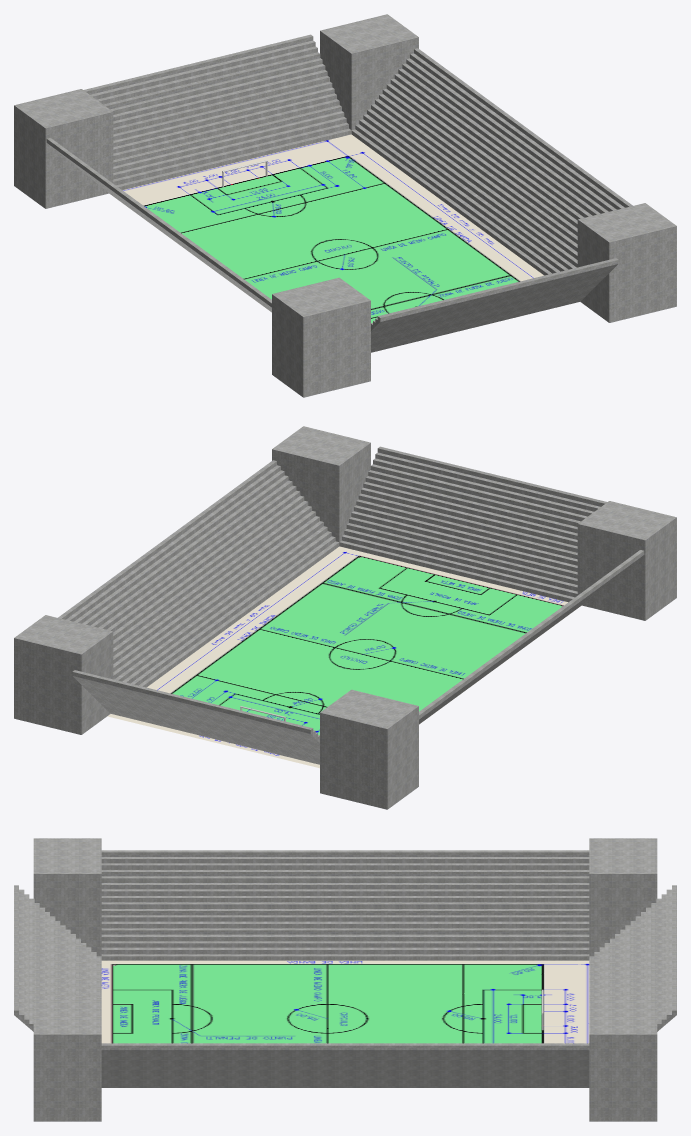
The picture shows the model from 3 angles, top to bottom: view 1: azimuth 30°, elevation 25°; view 2: azimuth 150°, elevation 25°; view 3: azimuth 270°, elevation 25°; orthographic projection. The views are drawn at different scales.
Visible parts, largest first — view 1: Gradas002, Surface002; view 2: Gradas002, Surface002; view 3: Gradas002, Surface002.
Part boxes in pixels (x1=…): Gradas002: x1=14, y1=14, x2=676, y2=397; Surface002: x1=123, y1=134, x2=543, y2=322; Gradas002: x1=14, y1=426, x2=676, y2=809; Surface002: x1=107, y1=546, x2=567, y2=768; Gradas002: x1=14, y1=838, x2=676, y2=1121; Surface002: x1=101, y1=960, x2=589, y2=1043.
Size of the model in its own units: 53.83 by 11.1 by 76.82.
Materials: 3 (3 with a texture image).
